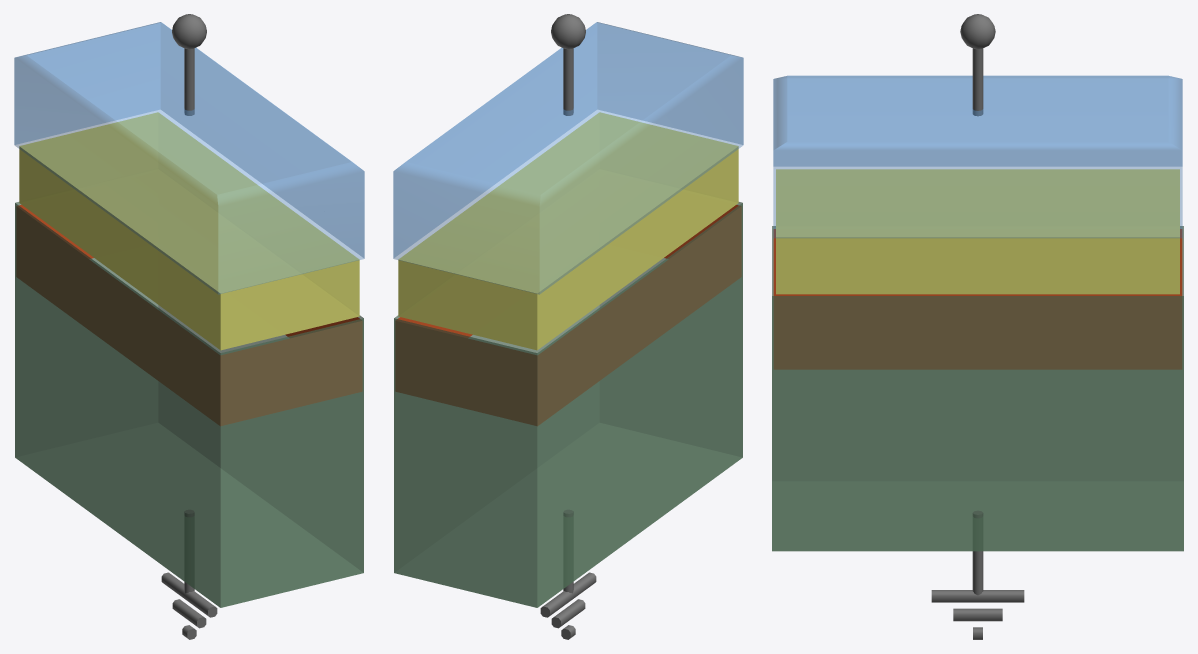
Rendered from mos tichluy.fbx.
The picture shows the model from 3 angles, left to right: view 1: azimuth 30°, elevation 25°; view 2: azimuth 150°, elevation 25°; view 3: azimuth 270°, elevation 25°; orthographic projection.
Visible parts, largest first — view 1: pCube9, pCube10, pCube15, depletion, pSphere2, pCube14, pCylinder3; view 2: pCube9, pCube10, pCube15, depletion, pSphere2, pCube14, pCylinder3; view 3: pCube9, pCube10, pCube15, depletion, pCube14, pSphere2, pCylinder3, pCube13, pCylinder4.
Boxes of the visible parts, left/top/right/bottom form: pCube9: left=15, top=202, right=363, bottom=607; pCube10: left=14, top=22, right=364, bottom=294; pCube15: left=19, top=112, right=359, bottom=350; depletion: left=16, top=205, right=362, bottom=425; pSphere2: left=172, top=14, right=206, bottom=49; pCube14: left=161, top=572, right=217, bottom=617; pCylinder3: left=184, top=48, right=194, bottom=115; pCube9: left=394, top=202, right=742, bottom=607; pCube10: left=393, top=22, right=743, bottom=294; pCube15: left=398, top=112, right=738, bottom=350; depletion: left=395, top=205, right=741, bottom=425; pSphere2: left=551, top=14, right=585, bottom=49; pCube14: left=540, top=572, right=596, bottom=617; pCylinder3: left=563, top=48, right=573, bottom=115; pCube9: left=772, top=226, right=1183, bottom=551; pCube10: left=773, top=75, right=1182, bottom=237; pCube15: left=776, top=169, right=1179, bottom=294; depletion: left=773, top=229, right=1182, bottom=369; pCube14: left=931, top=590, right=1024, bottom=602; pSphere2: left=960, top=14, right=995, bottom=49; pCylinder3: left=972, top=48, right=983, bottom=116; pCube13: left=953, top=608, right=1002, bottom=621; pCylinder4: left=972, top=511, right=983, bottom=595.
Bounding box in the file's own units: 8.72 × 35.41 × 21.21.
